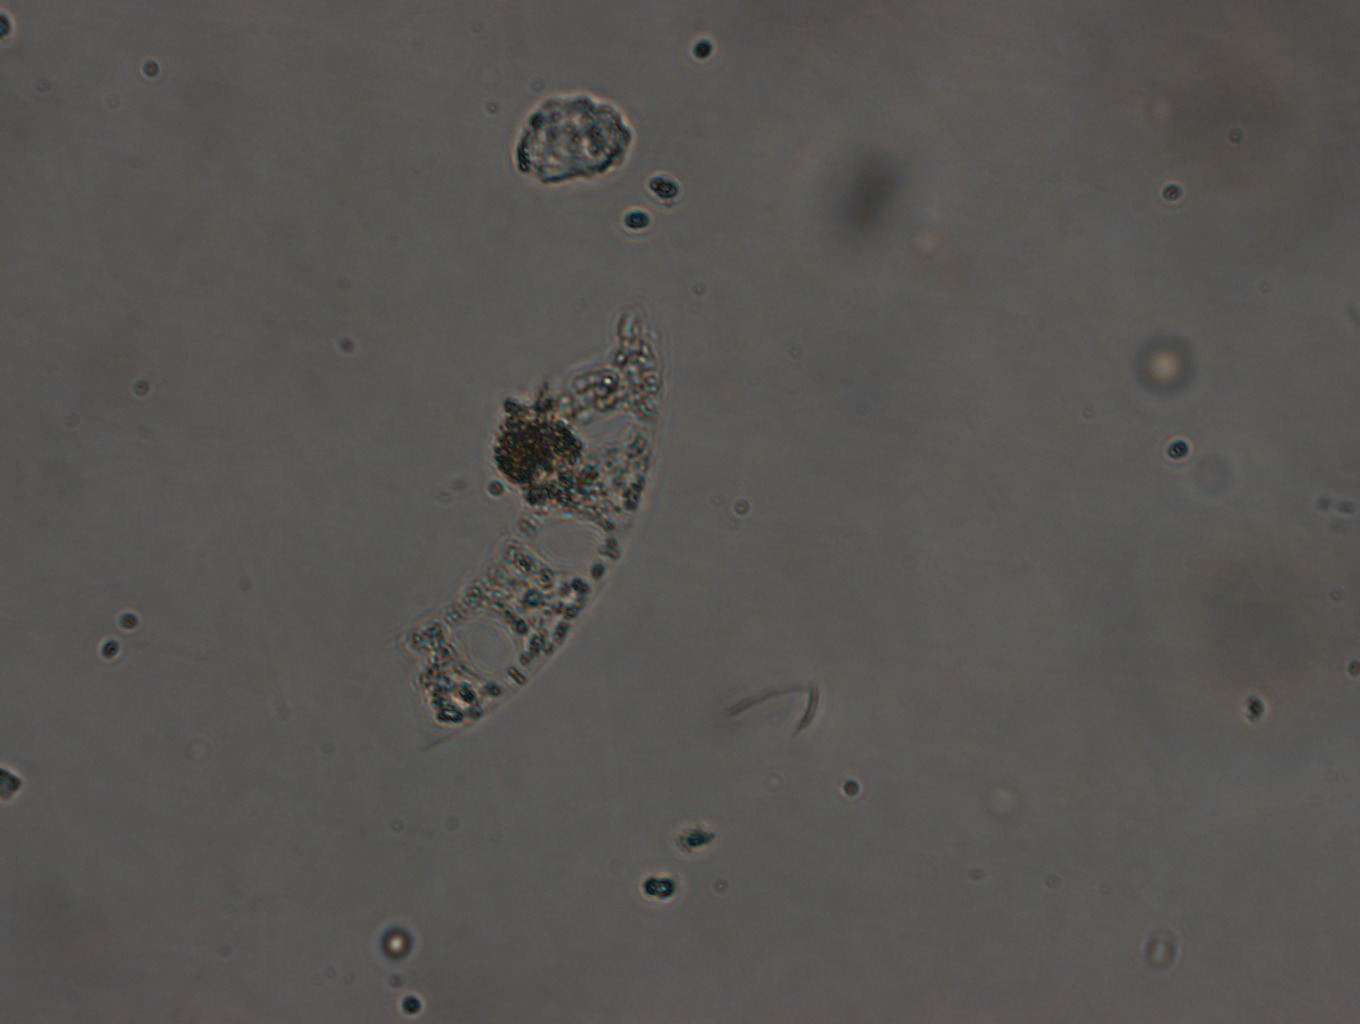eucampia: (383, 310, 674, 731)
